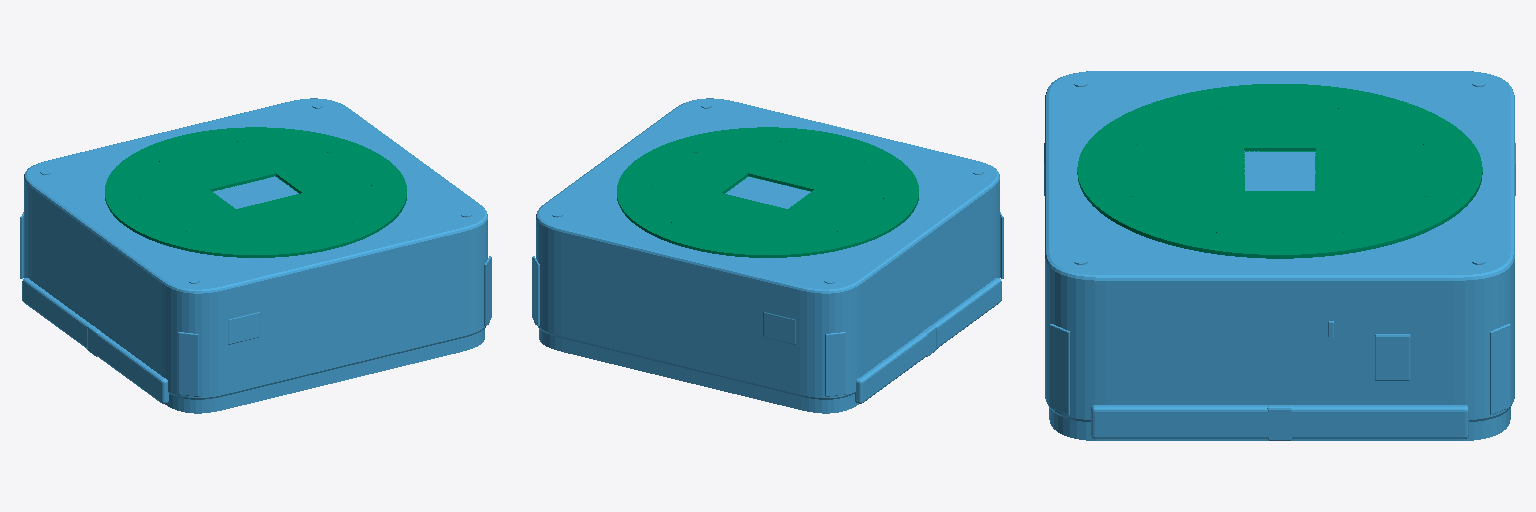
The robot description file, URDF, robot "racrew_reference":
<?xml version="1.0"?>
<robot name="racrew_reference">
<link name="base_footprint"></link>
<link name="base_link"><visual ><geometry ><mesh filename="../meshes/base_link.obj"/></geometry></visual><collision ><origin xyz="0 0 0.1975" rpy="0 0 0"/><geometry ><box size="0.99 0.916 0.365"/></geometry></collision></link>
<link name="turntable"><visual ><geometry ><mesh filename="../meshes/turntable.obj"/></geometry></visual></link>
<link name="deck"></link>
<joint name="base_link_joint" type="fixed"><parent link="base_footprint"/><child link="base_link"/><origin xyz="0 0 0" rpy="0 0 0"/></joint>
<joint name="turntable_joint" type="fixed"><parent link="base_link"/><child link="turntable"/><origin xyz="0 0 0.372" rpy="0 0 0"/></joint>
<joint name="deck_joint" type="fixed"><parent link="base_link"/><child link="deck"/><origin xyz="0 0 0.38" rpy="0 0 0"/></joint>
</robot>

--- What the picture shows (computed from the rendered views, not written in the file) ---
The picture shows the robot from 3 angles, left to right: view 1: azimuth 30°, elevation 25°; view 2: azimuth 150°, elevation 25°; view 3: azimuth 270°, elevation 25°; orthographic projection.
Model racrew_reference with 4 links and 3 joints (3 fixed), rooted at base_footprint, posed all joints at 0.
Visible links, largest first — view 1: base_link, turntable; view 2: base_link, turntable; view 3: base_link, turntable.
Boxes of the visible links, x1,y1,x2,y2 form: base_link: (20, 98, 491, 413); turntable: (105, 127, 406, 257); base_link: (532, 98, 1003, 413); turntable: (617, 127, 918, 257); base_link: (1044, 71, 1515, 440); turntable: (1077, 84, 1482, 258).
Size in the robot's own frame: 0.991 by 0.918 by 0.3655 metres.
2 mesh visuals loaded from 2 distinct referenced files (2 OBJ).
